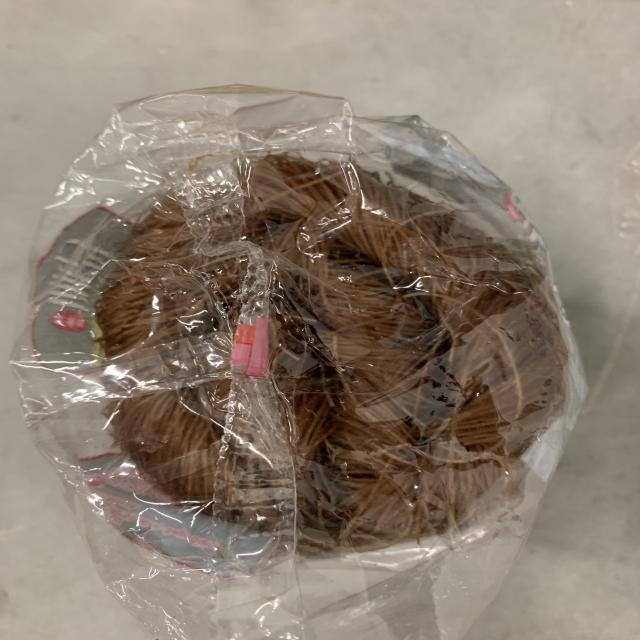object_name: (87, 133, 546, 548)
